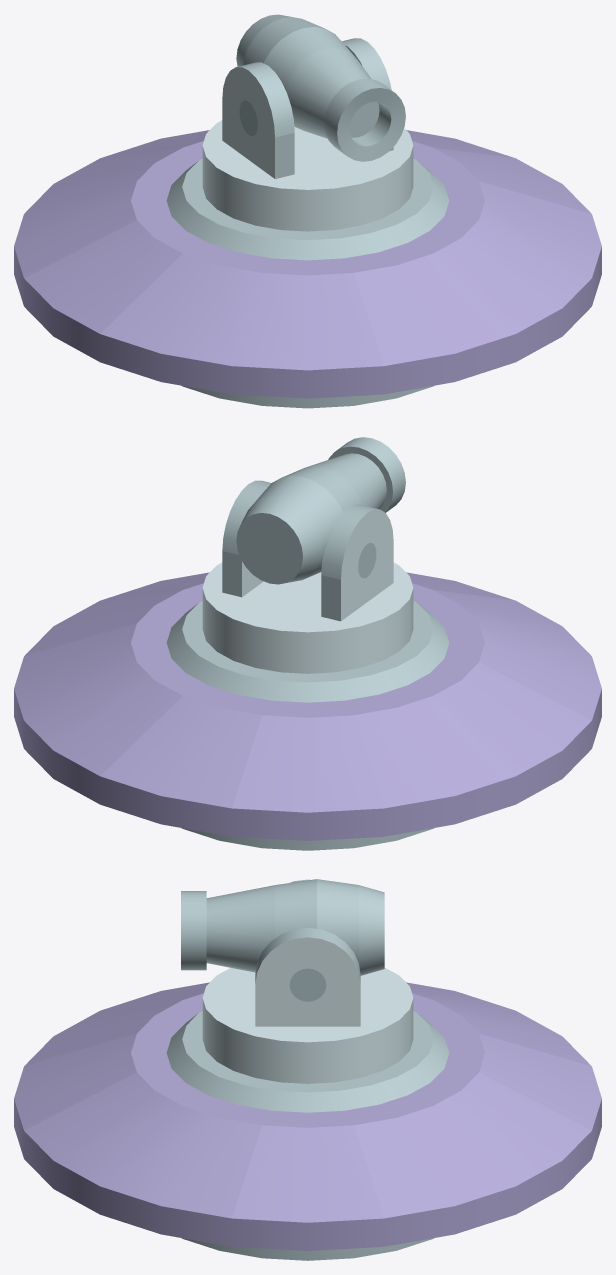
Rendered from Drilon_purple.fbx.
3 views of the same model, one above another, from view 1: azimuth 30°, elevation 25°; view 2: azimuth 150°, elevation 25°; view 3: azimuth 270°, elevation 25° (orthographic).
Visible parts, largest first — view 1: Purple_bottom, Purple_top, Purple_cannon; view 2: Purple_bottom, Purple_top, Purple_cannon; view 3: Purple_bottom, Purple_top, Purple_cannon.
Boxes of the visible parts, x1,y1,x2,y2 form: Purple_bottom: [14, 130, 601, 408]; Purple_top: [202, 38, 413, 231]; Purple_cannon: [236, 14, 405, 161]; Purple_bottom: [14, 572, 601, 850]; Purple_top: [202, 480, 413, 673]; Purple_cannon: [236, 437, 405, 584]; Purple_bottom: [14, 982, 601, 1260]; Purple_top: [202, 879, 413, 1083]; Purple_cannon: [181, 879, 384, 975].
Bounding box in the file's own units: 100 × 56.72 × 100.
